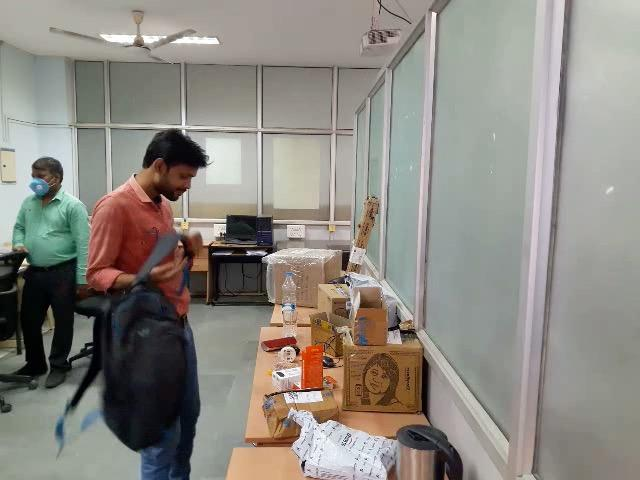Normal: (20, 121, 213, 480)
